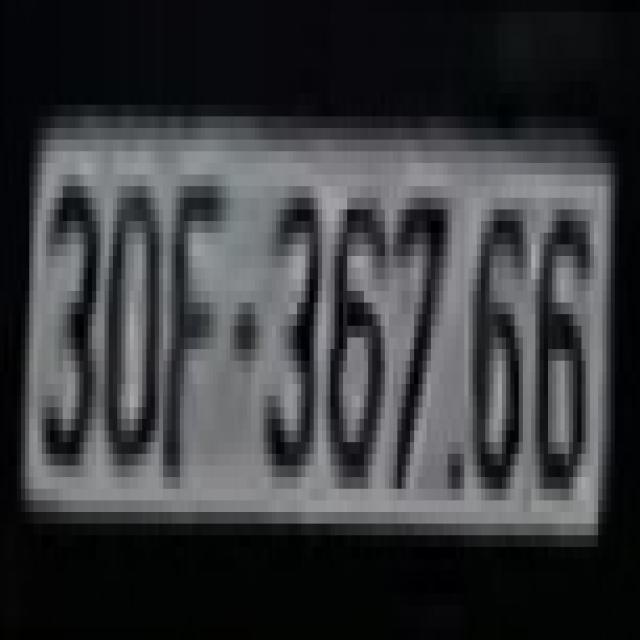0: (100, 174, 159, 466)
3: (42, 174, 100, 466), (264, 186, 322, 477)
6: (468, 198, 523, 489), (330, 186, 385, 477), (535, 210, 590, 500)
7: (393, 198, 448, 489)
F: (163, 174, 226, 488)
